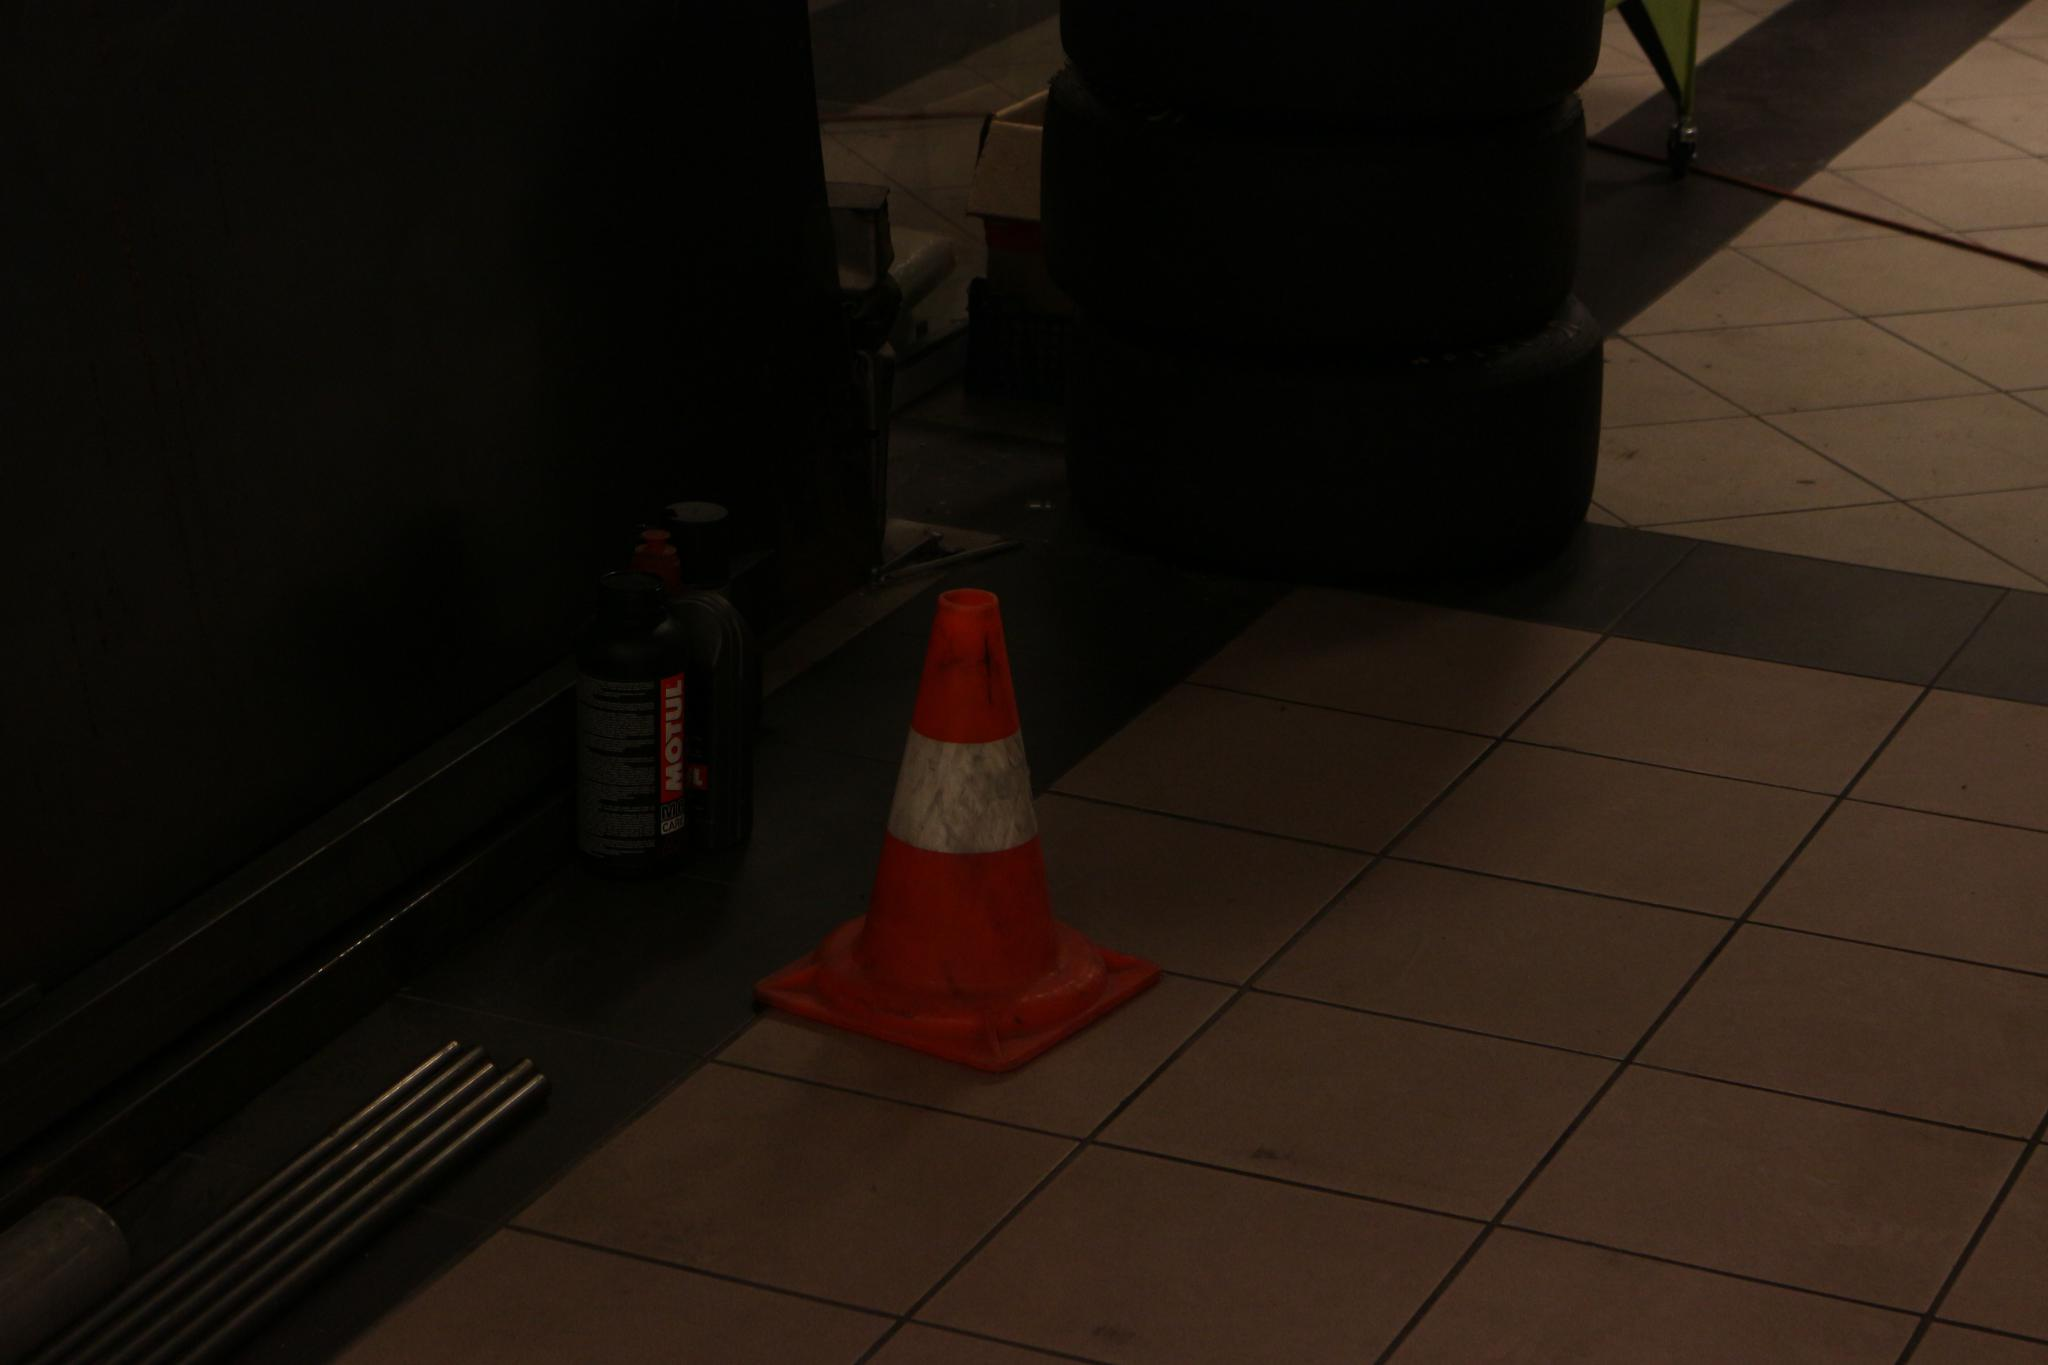Orange_Cone: (769, 580, 1148, 1056)
